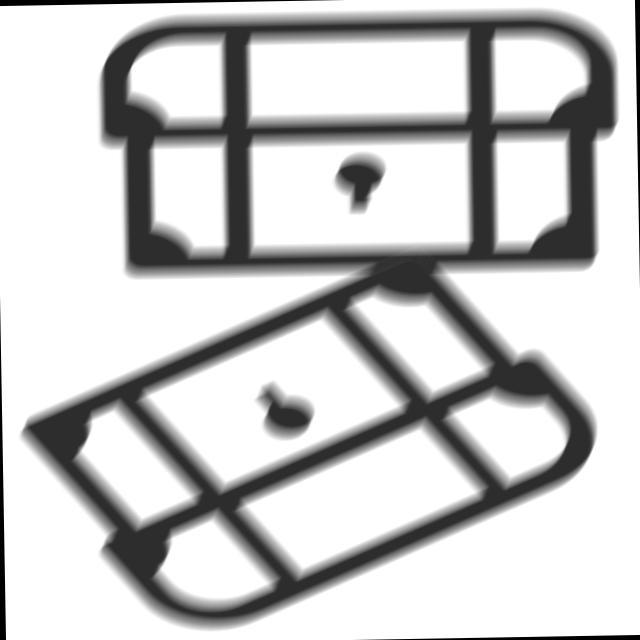treasure_box: (5, 233, 610, 640), (85, 1, 626, 285)
